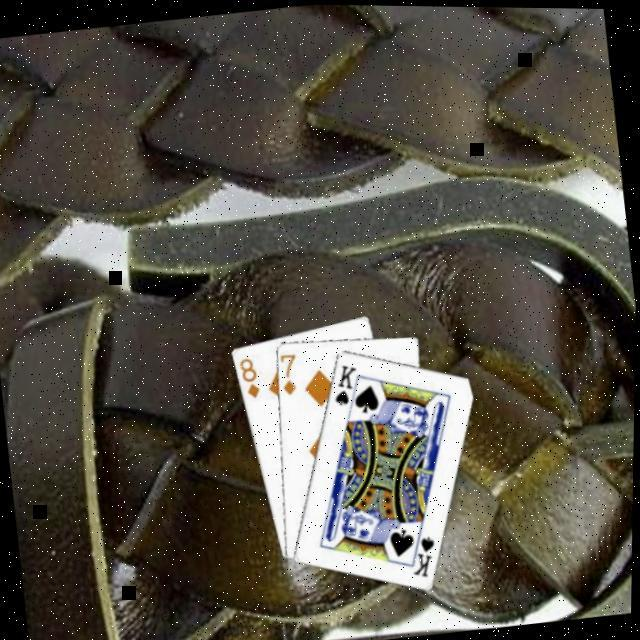7D: (277, 349, 305, 398)
8D: (236, 353, 266, 402)
KS: (404, 524, 444, 580), (329, 359, 365, 408)
